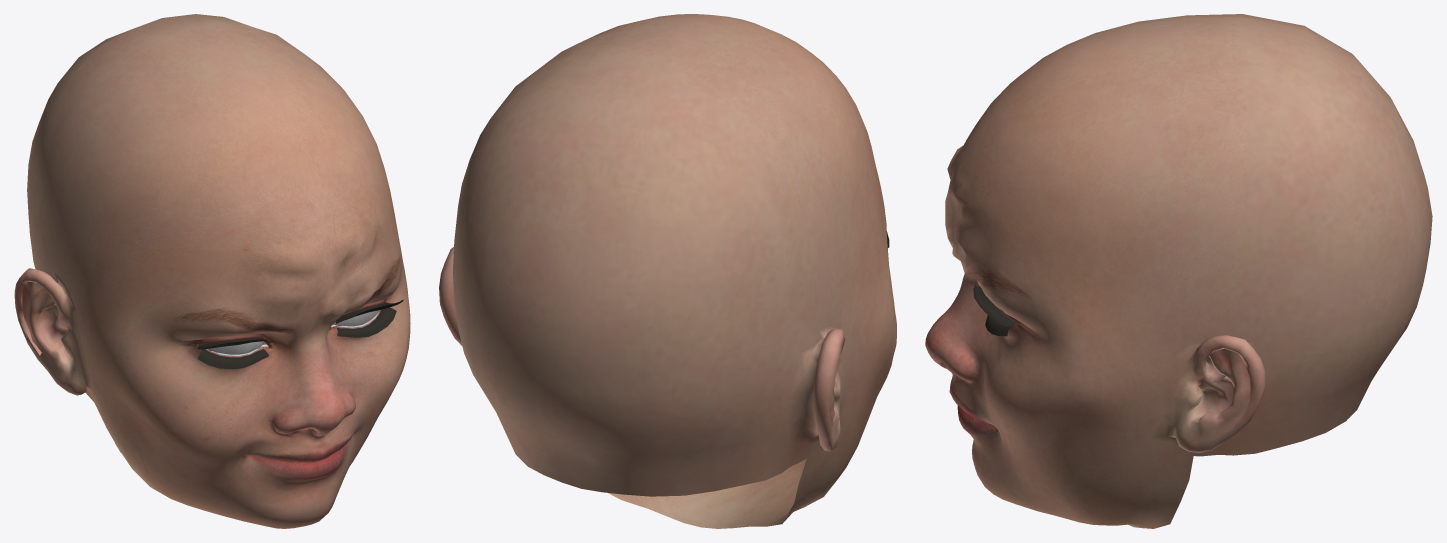
File: Fat.obj
3 views of the same model, side by side, from view 1: azimuth 30°, elevation 25°; view 2: azimuth 150°, elevation 25°; view 3: azimuth 270°, elevation 25° (orthographic). The views are drawn at different scales.
Parts seen in each view (by area): view 1: head; view 2: head; view 3: head.
Boxes of the visible parts, <box> form: head: <box>14,14,410,528</box>; head: <box>439,14,896,528</box>; head: <box>925,14,1432,528</box>.
Size of the model in its own units: 18.52 by 23.08 by 21.82.
